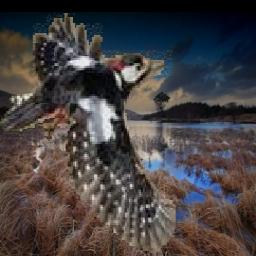Woodpecker: (0, 14, 183, 256)
